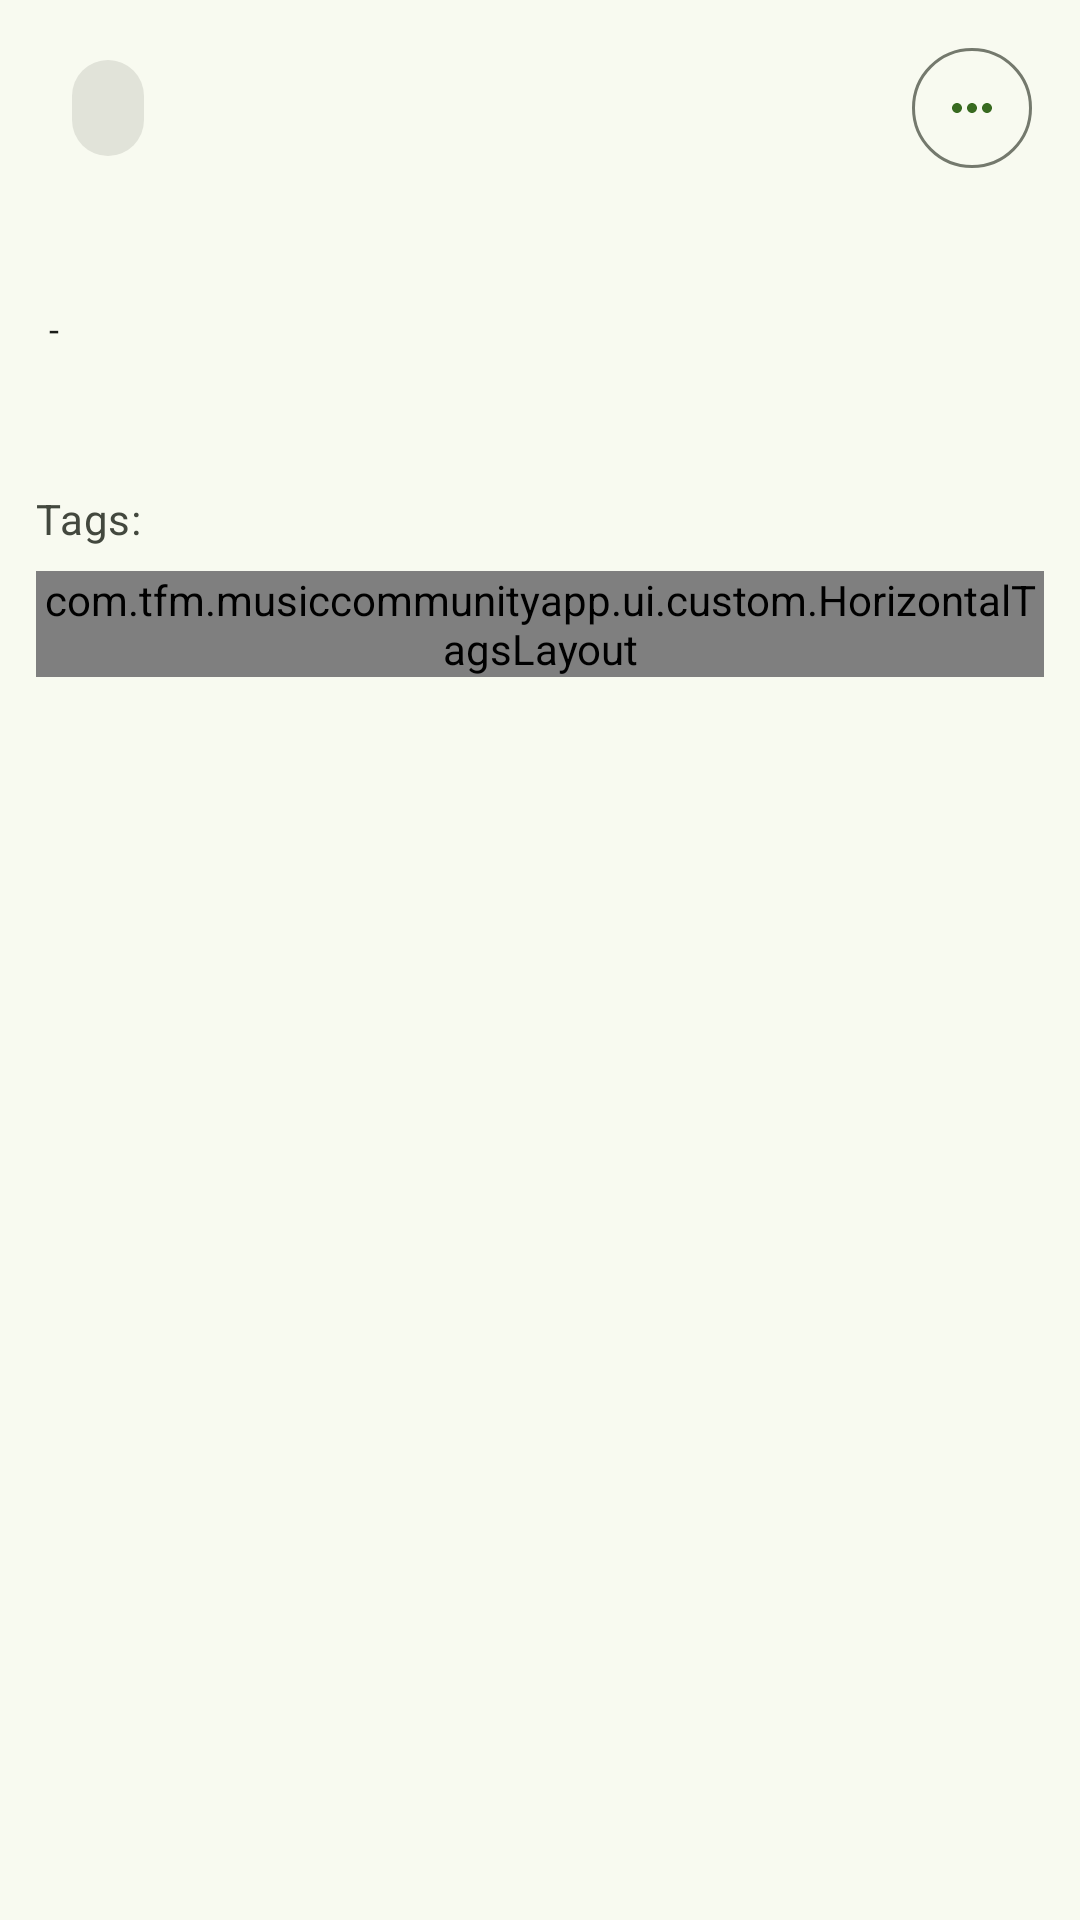

Icon click points for this 1080*1920 phone screenshot, format [x,y]:
dots more: [972,108]
